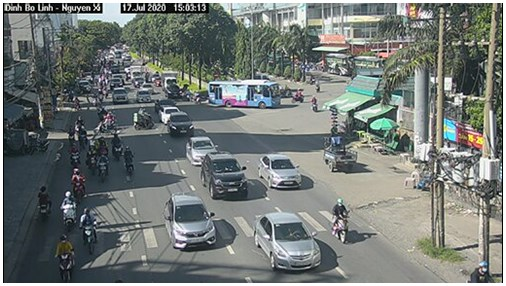xe_ba_gac: (317, 135, 360, 172)
xe_buyt: (207, 80, 282, 110)
xe_hoi: (251, 212, 321, 273), (160, 191, 222, 252), (200, 149, 250, 201), (258, 153, 303, 193), (185, 135, 217, 165), (167, 112, 196, 138), (159, 107, 182, 126), (110, 88, 128, 105), (134, 88, 152, 105)
xe_may: (78, 206, 103, 256), (54, 234, 77, 282), (328, 197, 351, 245), (56, 191, 77, 232), (68, 165, 89, 201), (119, 143, 139, 178), (128, 108, 155, 131), (36, 185, 53, 221), (84, 144, 98, 176), (96, 111, 118, 131), (67, 141, 82, 169), (110, 133, 123, 159), (287, 89, 306, 105), (98, 150, 108, 180), (96, 133, 108, 156), (189, 89, 203, 105), (310, 95, 318, 114)
